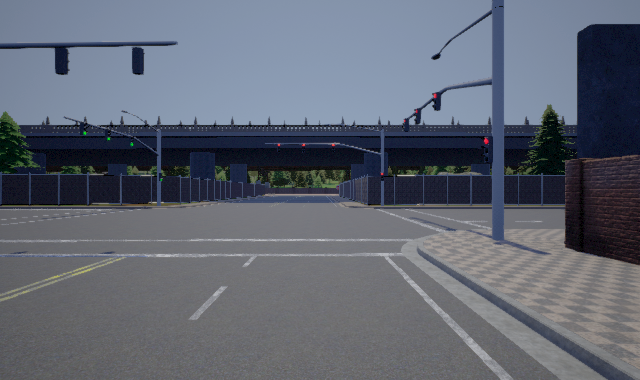traffic_light: (481, 136, 493, 163), (432, 92, 441, 111), (414, 108, 421, 124), (80, 122, 88, 135), (402, 118, 409, 132), (105, 129, 111, 141), (129, 136, 134, 146), (159, 173, 163, 181), (332, 144, 335, 153), (302, 144, 305, 153), (277, 144, 280, 153), (381, 173, 384, 181)
